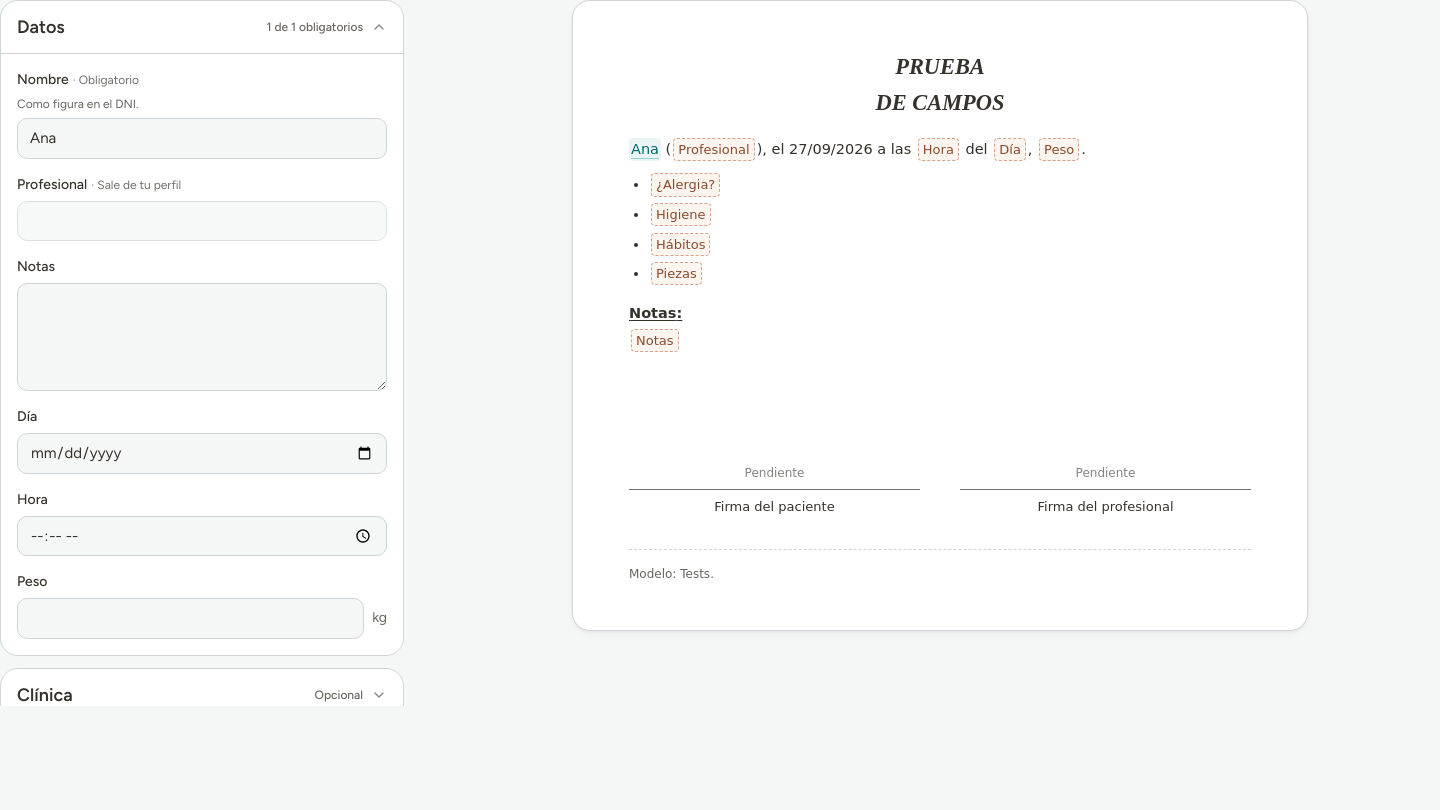
Test case: EditorDeDocumento › si el guardado previo falla, no termina
The width and height of the screenshot is (1440, 810).
Replace the text in the field labelled "Nombre· Obligatorio" with "Ana P" at (202, 138), box x1=17 y1=118 x2=387 y2=158
(page scrolled)
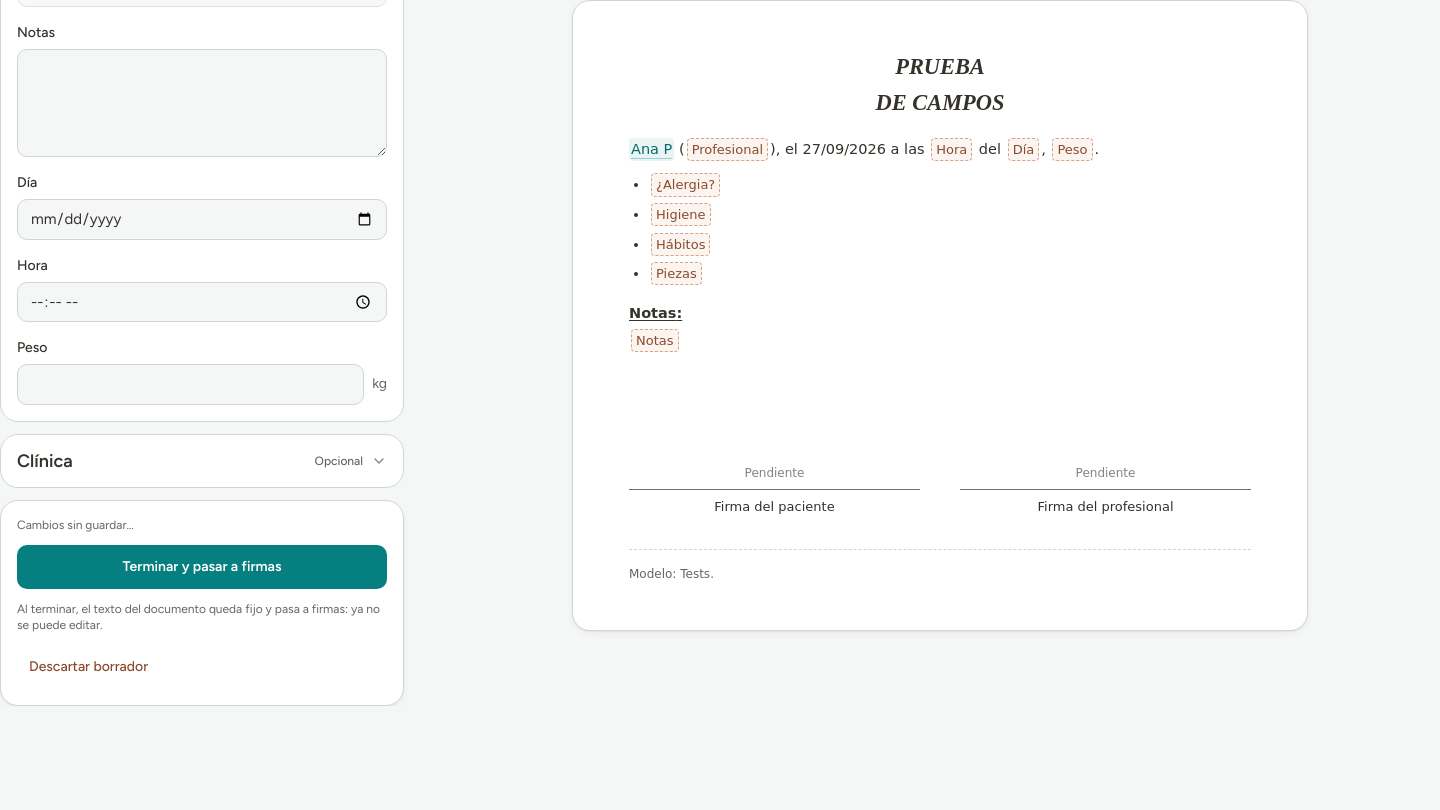
Click the button "Terminar y pasar a firmas" at (202, 566), box x1=17 y1=544 x2=387 y2=588
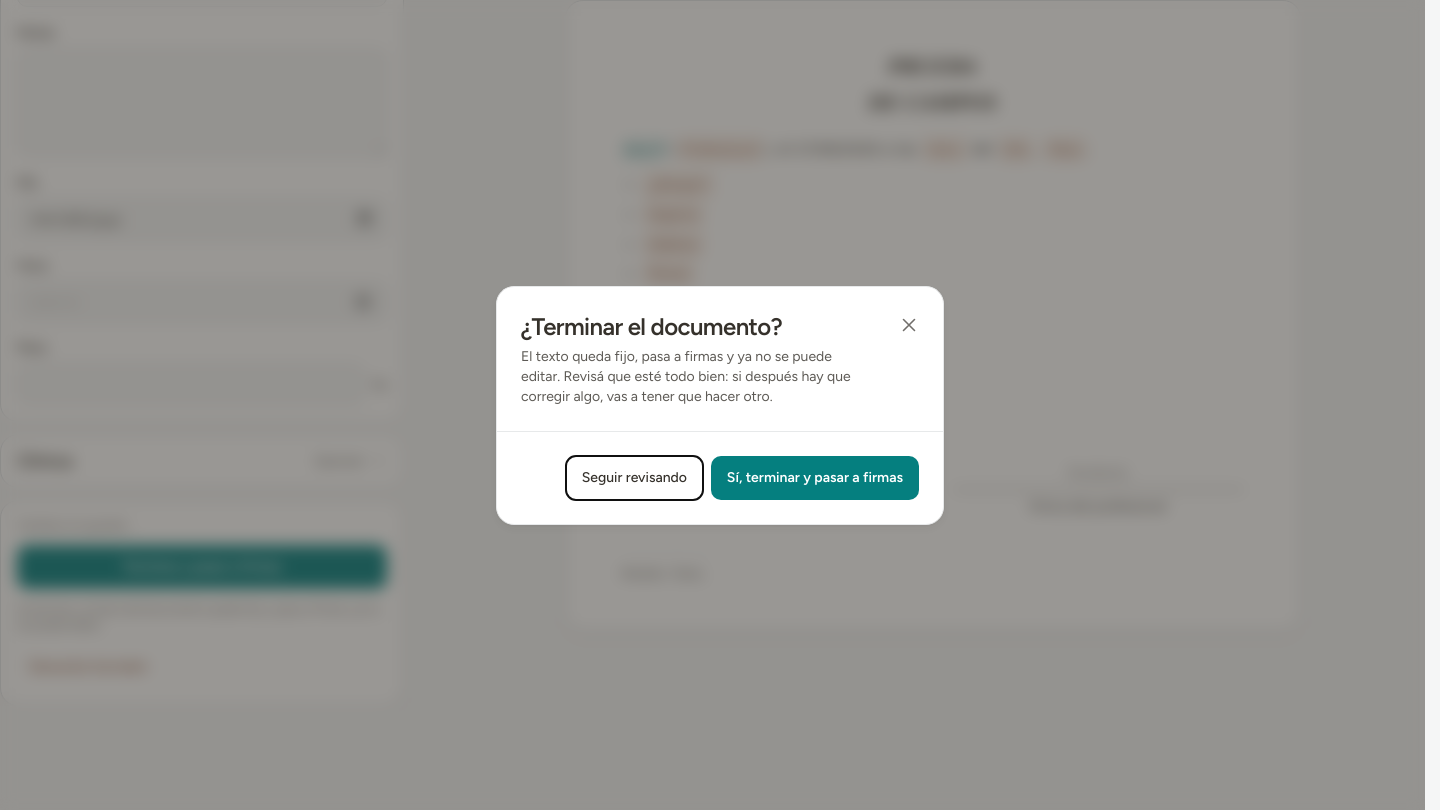
Click the button "Sí, terminar y pasar a firmas" at (815, 478), box x1=711 y1=456 x2=919 y2=500
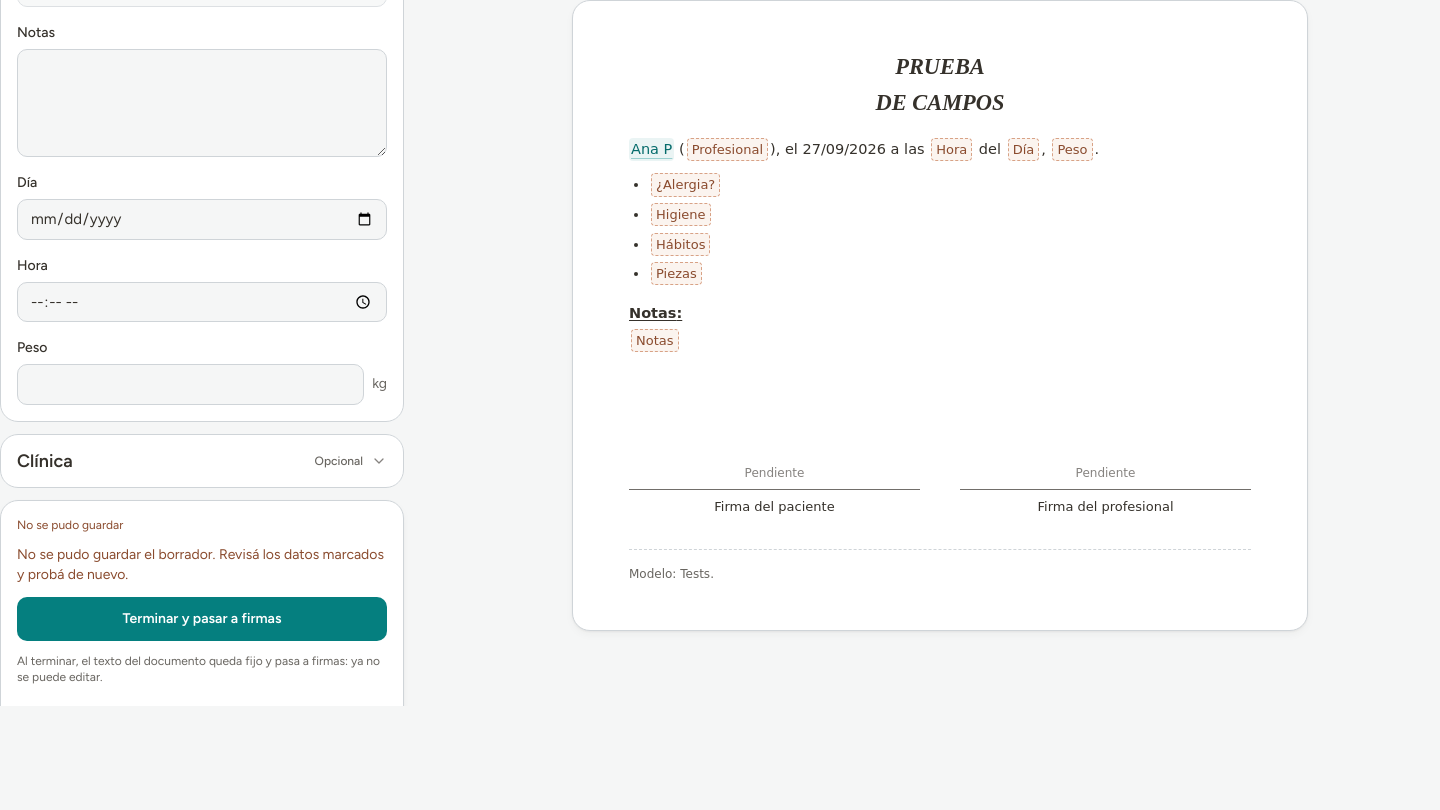
Check: the text "No se pudo guardar el borrador. Revisá los datos marcados y probá de nuevo." is shown, box x1=17 y1=544 x2=387 y2=584
